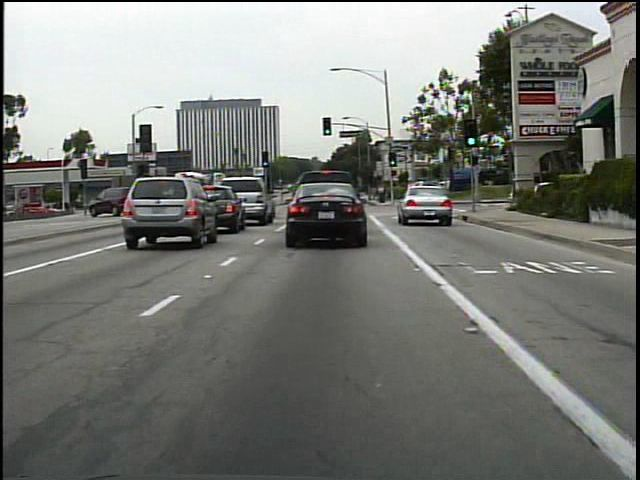person: (375, 181, 390, 205)
